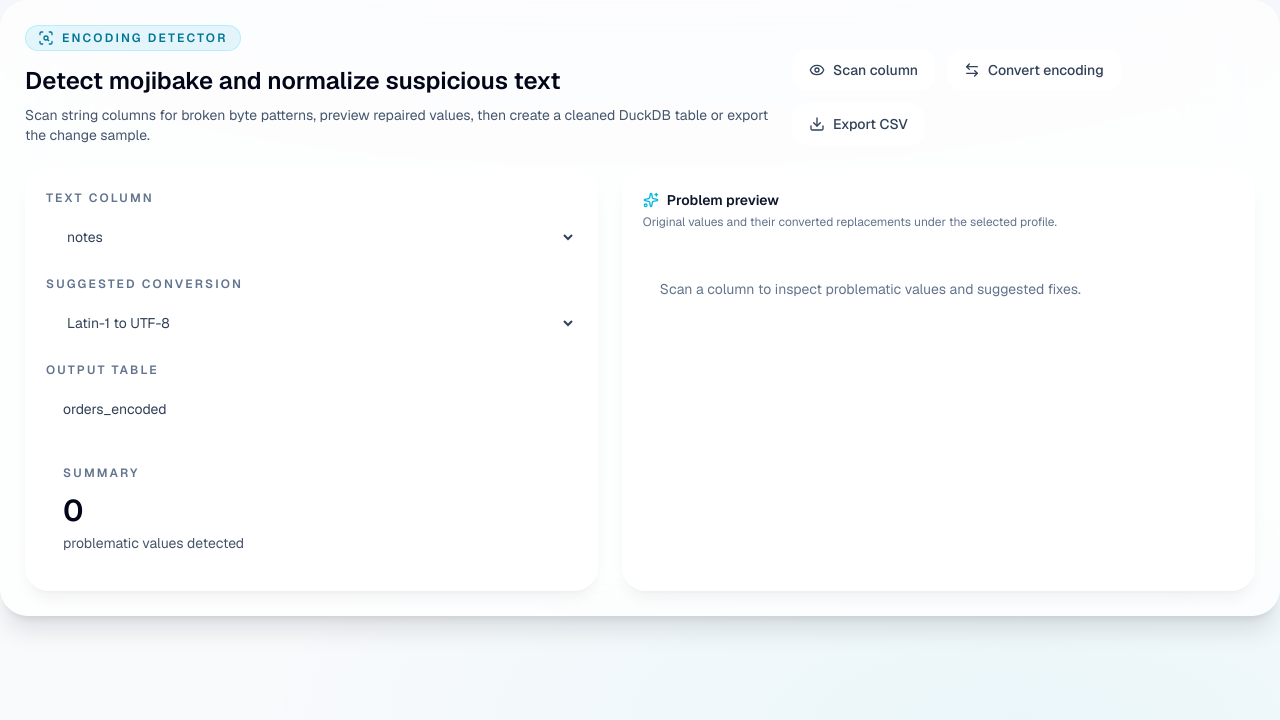
EncodingDetector › scans a text column and suggests a conversion profile
Click the button "Scan column" at (864, 70), box [792, 49, 935, 91]
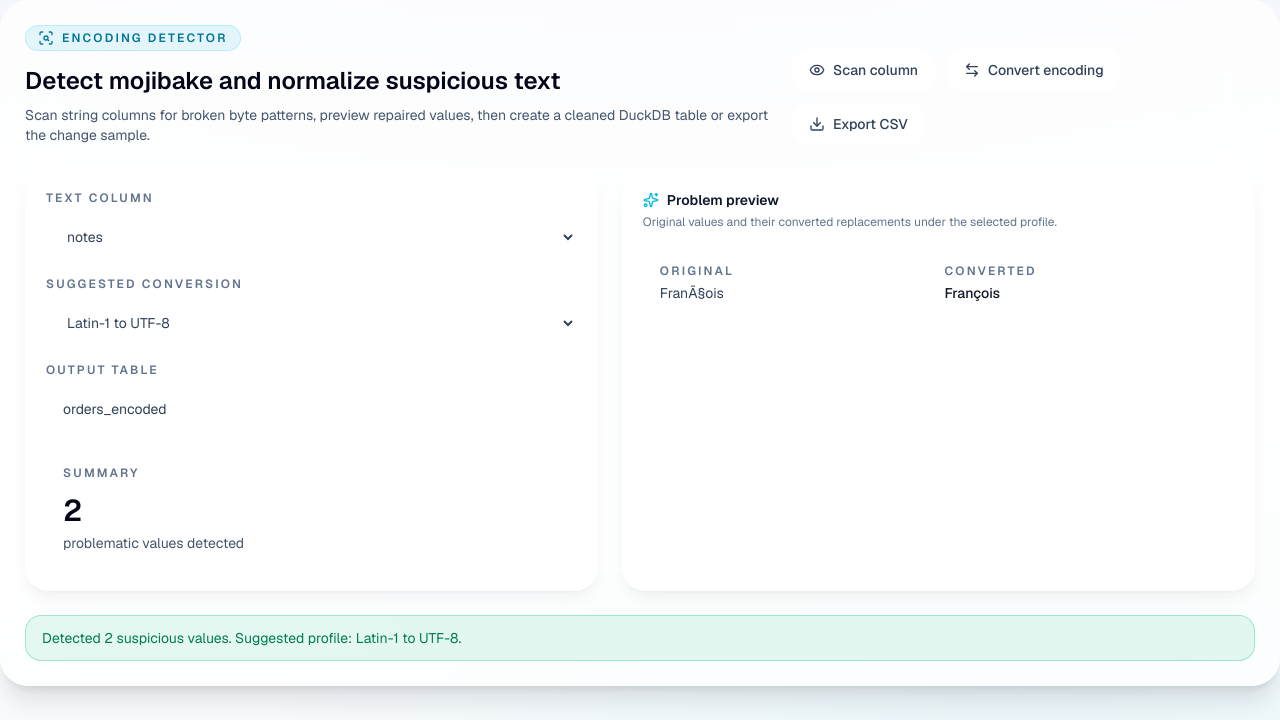
Expected: the text "FranÃ§ois" is shown, [660, 284, 724, 302]
Expected: the text "François" is shown, [944, 284, 1000, 302]
Expected: the text "Suggested profile: Latin-1 to UTF-8" is shown, [42, 629, 461, 647]
